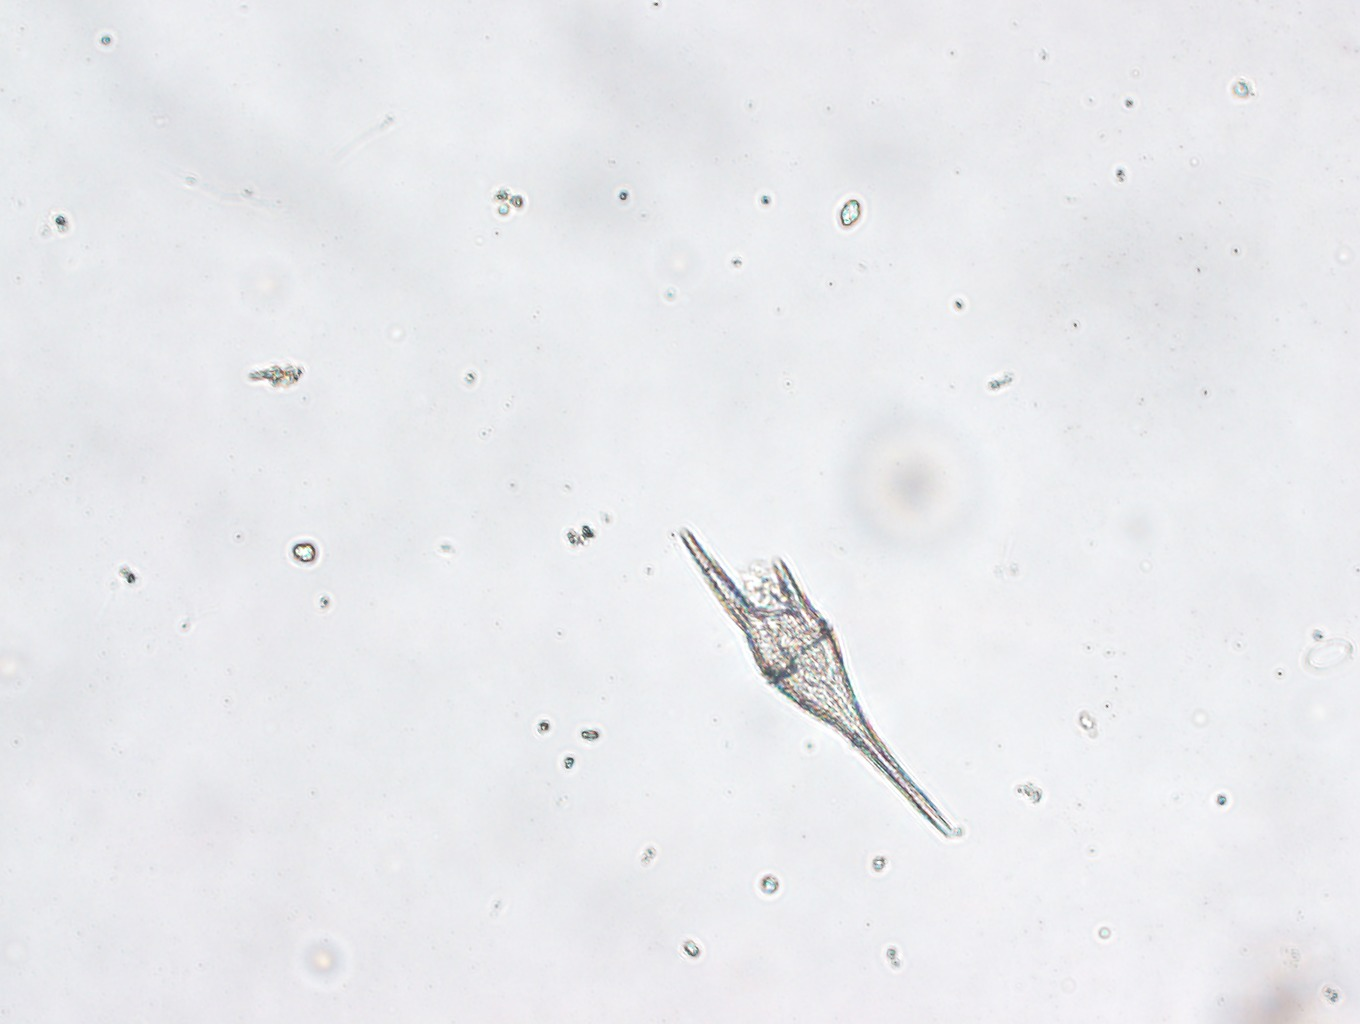ceratium furca: (676, 525, 957, 842)
